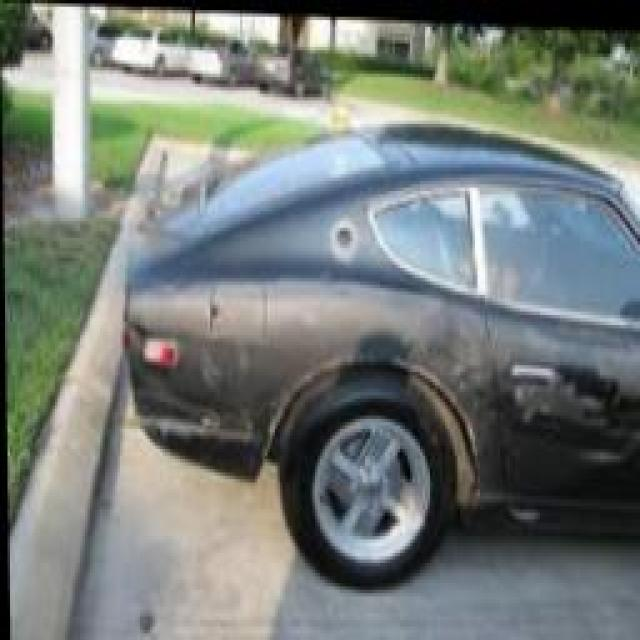Bumper: (130, 376, 289, 483)
Door: (485, 292, 640, 494)
Fender: (165, 192, 508, 499)
